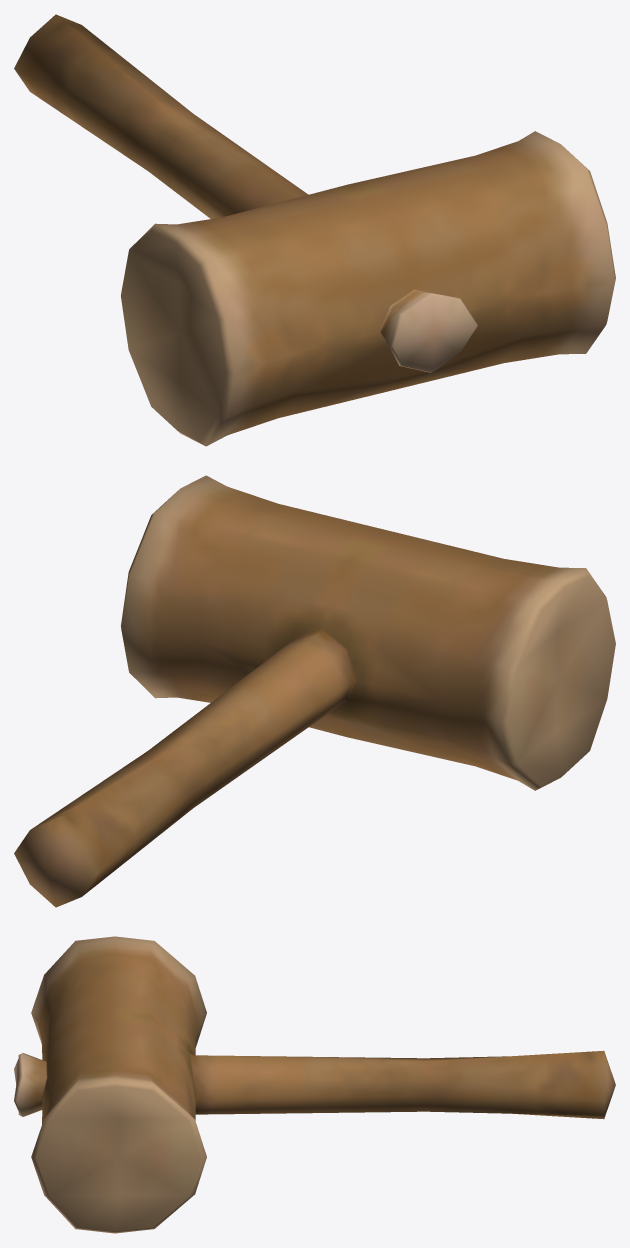
Rendered from Hammer.fbx.
3 renders of one model, top to bottom at view 1: azimuth 30°, elevation 25°; view 2: azimuth 150°, elevation 25°; view 3: azimuth 270°, elevation 25°, orthographic. The views are drawn at different scales.
Visible parts, largest first — view 1: hammer; view 2: hammer; view 3: hammer.
Boxes of the visible parts, x1,y1,x2,y2 form: hammer: (14, 14, 615, 446); hammer: (14, 475, 615, 907); hammer: (14, 936, 615, 1233).
Bounding box in the file's own units: 0.274 × 0.1321 × 0.4709.
Materials: 1 (1 with a texture image).
